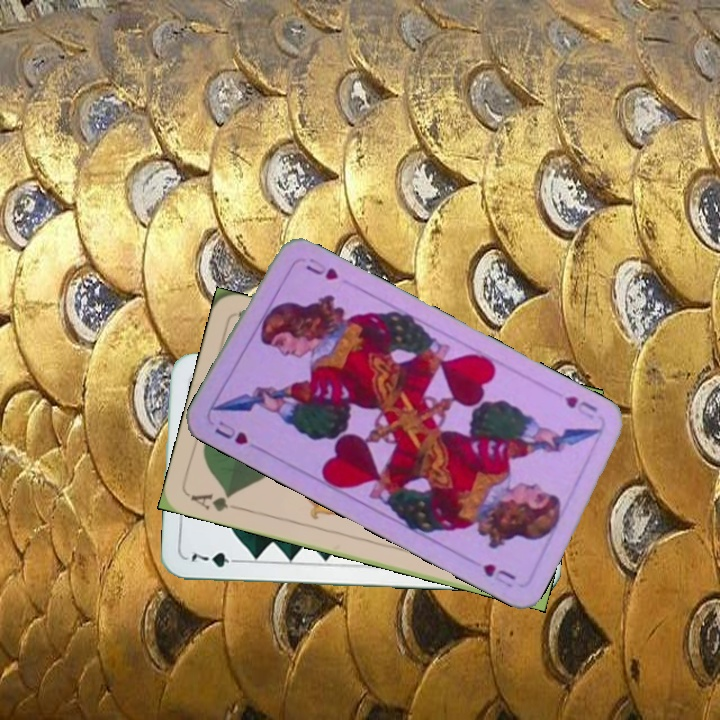G7: (187, 549, 245, 570)
GA: (186, 489, 245, 514)
HU: (560, 392, 600, 427), (210, 417, 251, 448)
